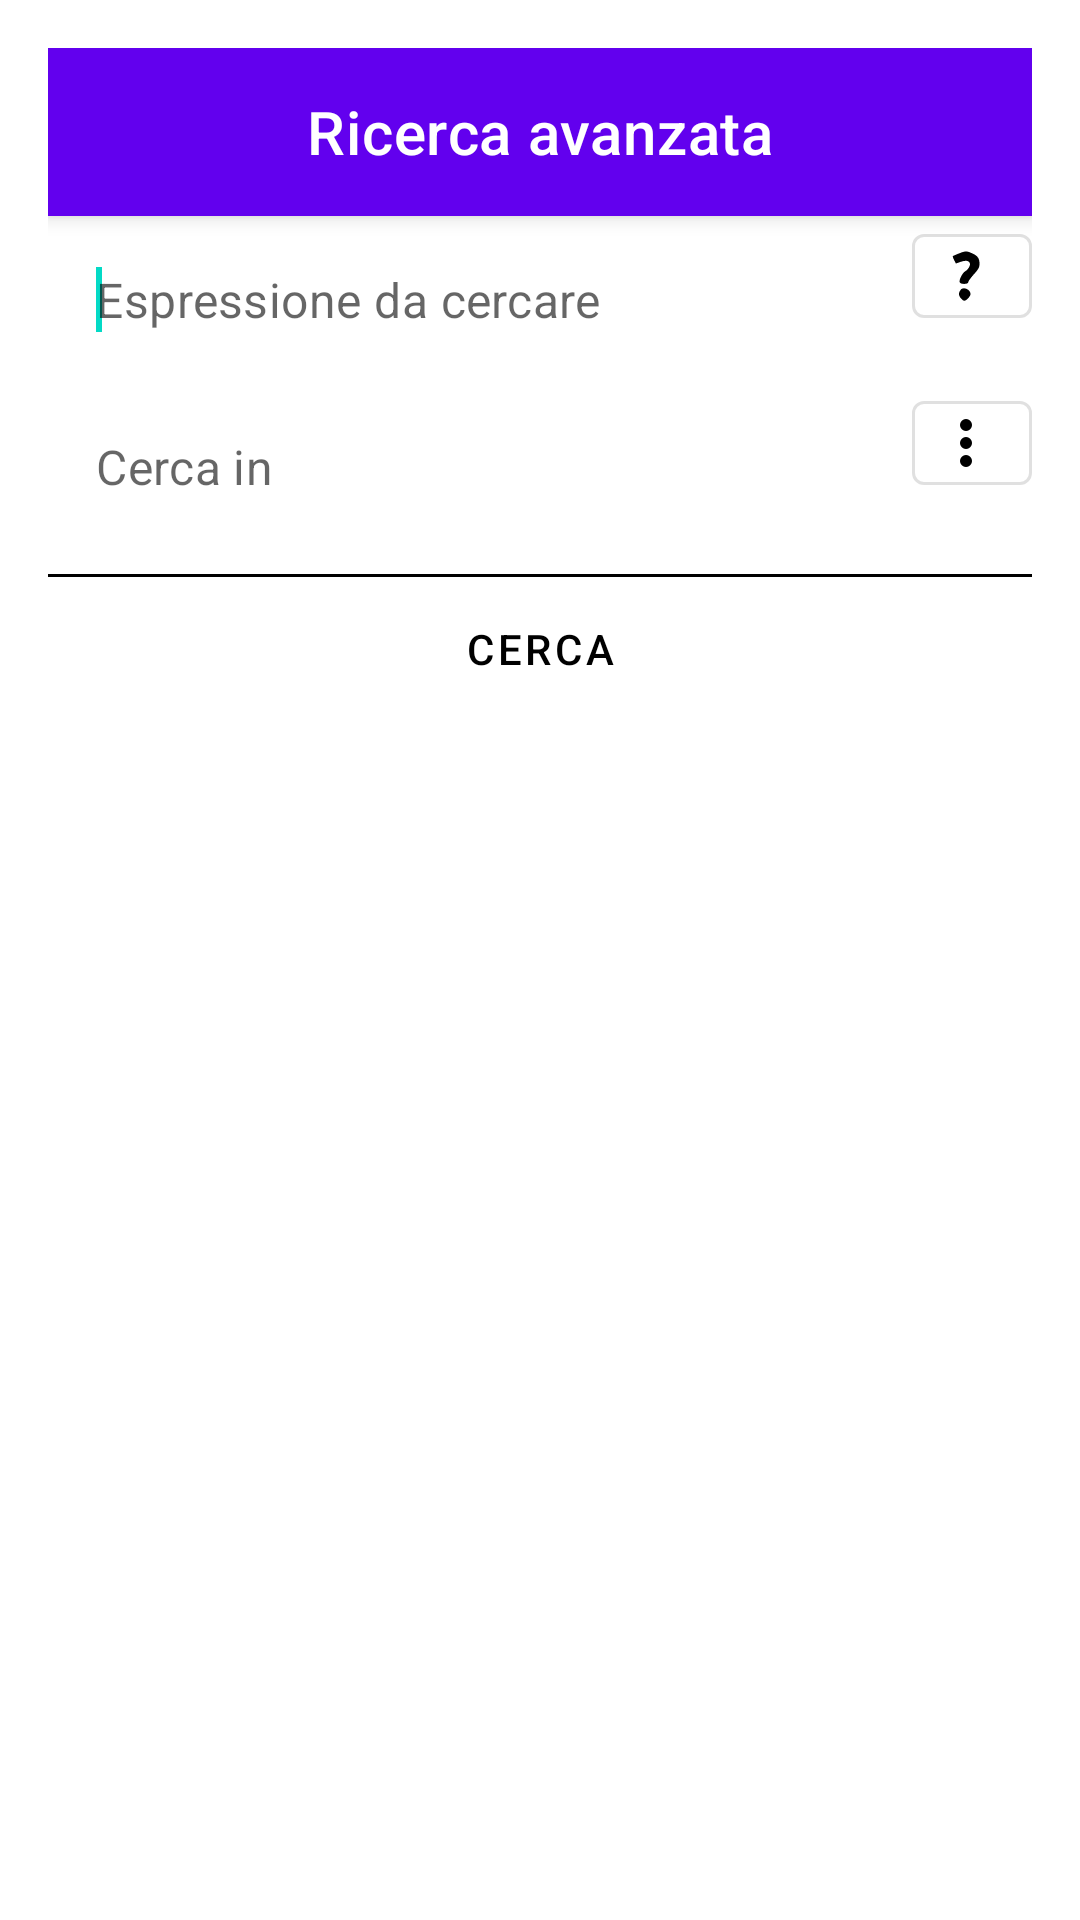

Point at icon controls on the screen. Image size 1080×1920, points as (x,y).
Aiuto: (972,276)
Altro: (972,443)
